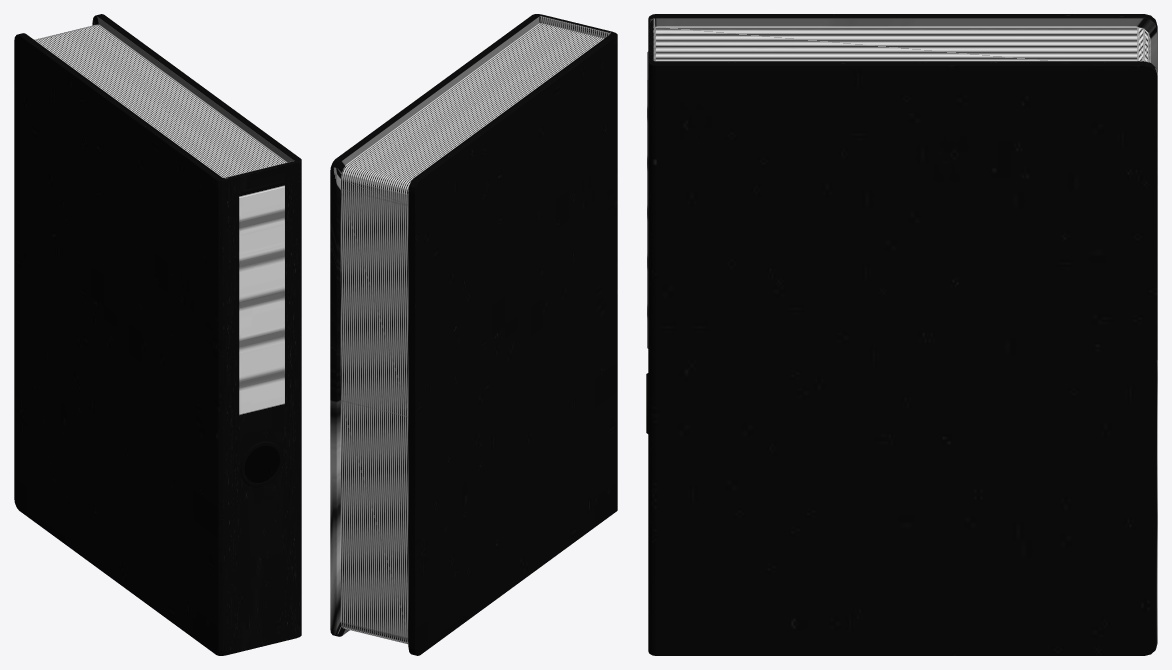
Rendered from folder.glb.
3 views of the same model, side by side, from view 1: azimuth 30°, elevation 25°; view 2: azimuth 150°, elevation 25°; view 3: azimuth 270°, elevation 25° (orthographic). The views are drawn at different scales.
Parts seen in each view (by area): view 1: Folder documents; view 2: Folder documents; view 3: Folder documents.
Part boxes in pixels (x1,y1,x2,y2): Folder documents: (14, 14, 301, 655); Folder documents: (330, 14, 617, 655); Folder documents: (646, 14, 1157, 655).
Size of the model in its own units: 0.06 by 0.32 by 0.2508.
Materials: 1 (1 with a texture image).
